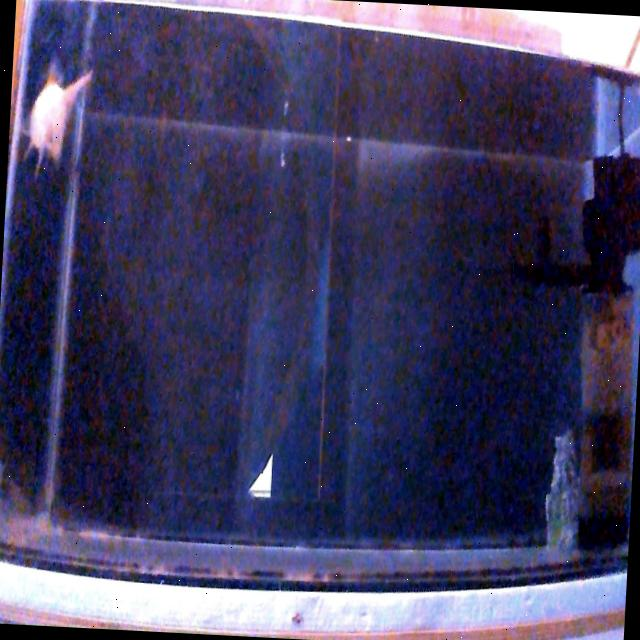fish: (24, 64, 94, 180)
